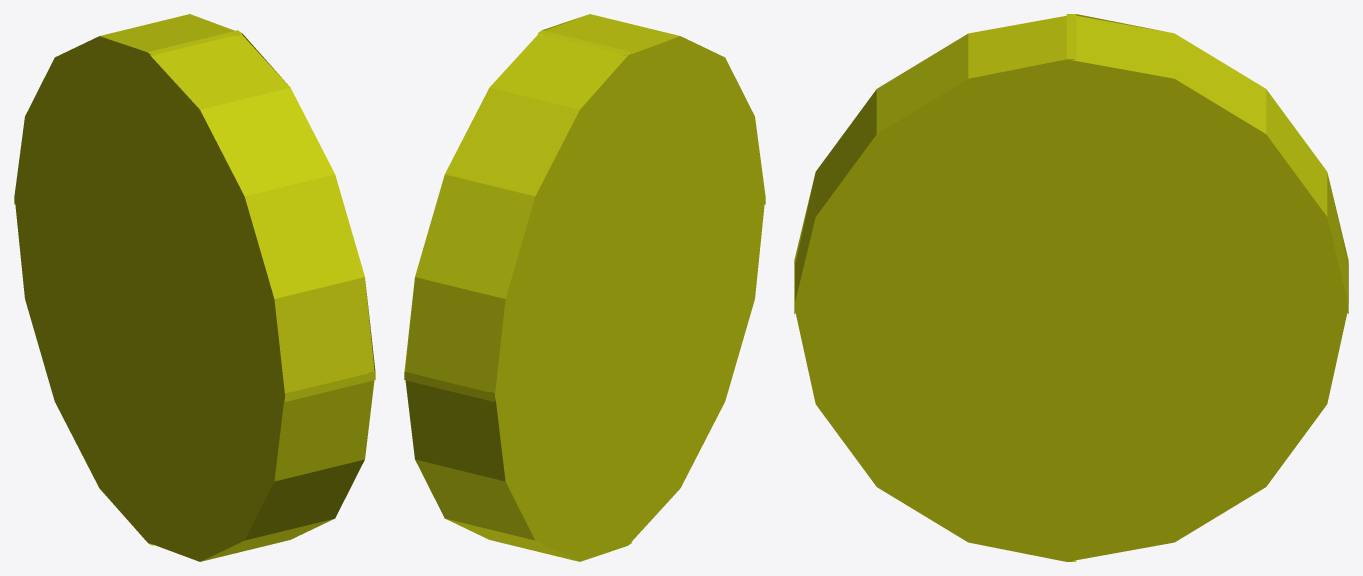
Rendered from coin.fbx.
The picture shows the model from 3 angles, left to right: view 1: azimuth 30°, elevation 25°; view 2: azimuth 150°, elevation 25°; view 3: azimuth 270°, elevation 25°; orthographic projection. The views are drawn at different scales.
Parts seen in each view (by area): view 1: Cube; view 2: Cube; view 3: Cube.
Part boxes in pixels (bbox=[...]): Cube: bbox=[14, 14, 375, 561]; Cube: bbox=[404, 14, 765, 561]; Cube: bbox=[794, 14, 1348, 561].
Bounding box in the file's own units: 38.68 × 200 × 200.
